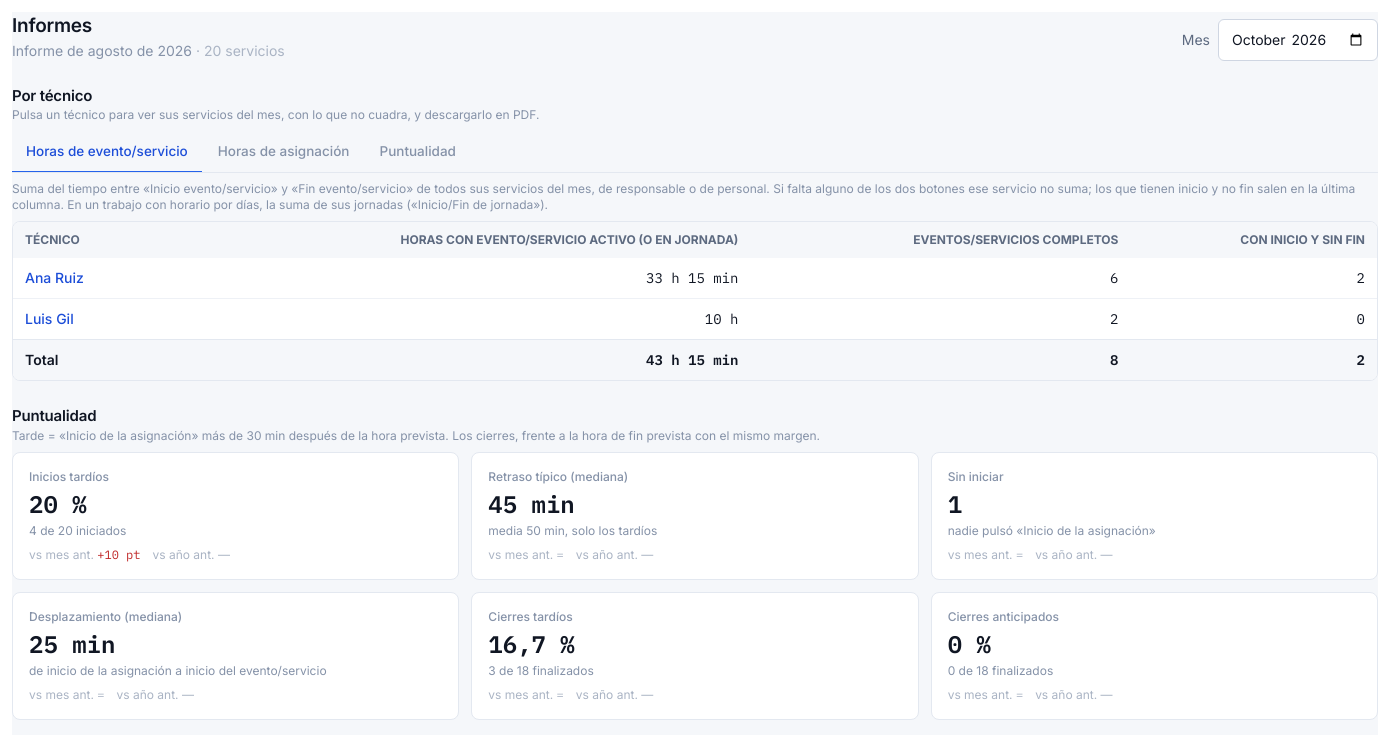
Test: Informes › por técnico: sumatorio de horas por pestaña, de más carga a menos y con total
The width and height of the screenshot is (1390, 735).
Expected: the button "Ana Ruiz" is shown, left=25, top=268, right=84, bottom=288
Expected: the tab "Horas de evento/servicio" is shown, left=12, top=131, right=202, bottom=173
Step 1. Click the tab "Horas de asignación" → (284, 152), box left=204, top=131, right=364, bottom=173
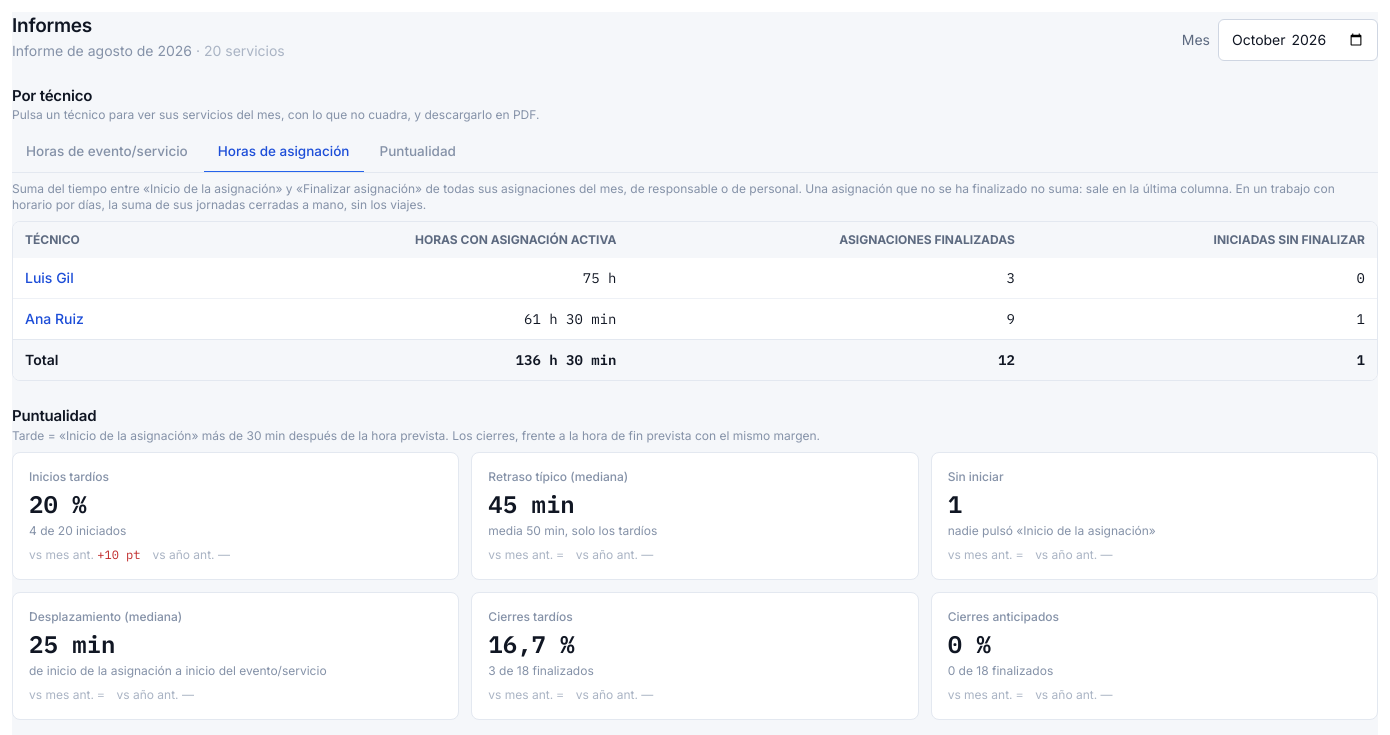
Now the column heading "Horas con asignación activa" is shown, box left=178, top=222, right=628, bottom=258
Step 2. Click the tab "Puntualidad" → (418, 152), box left=366, top=131, right=470, bottom=173
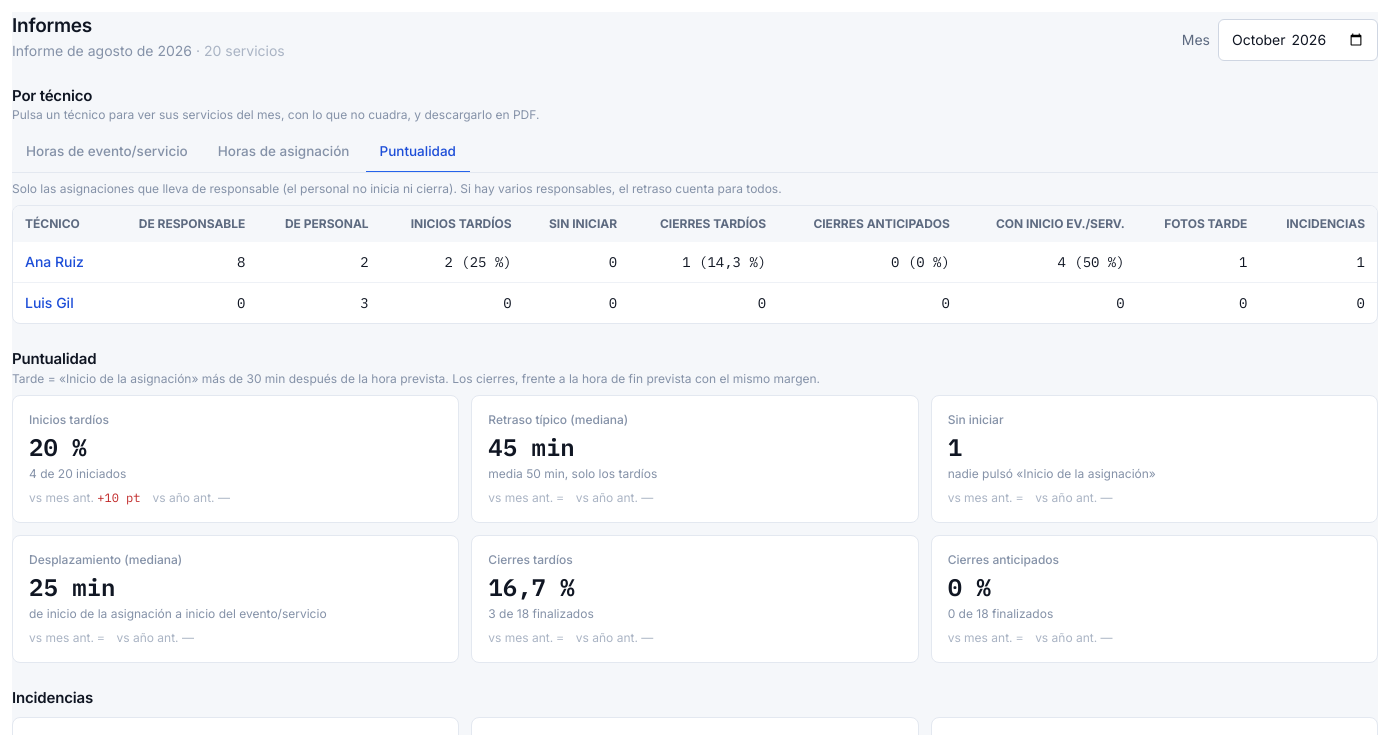
Now the column heading "Cierres tardíos" is shown, box left=629, top=206, right=778, bottom=242
Now the text "Total" is gone
